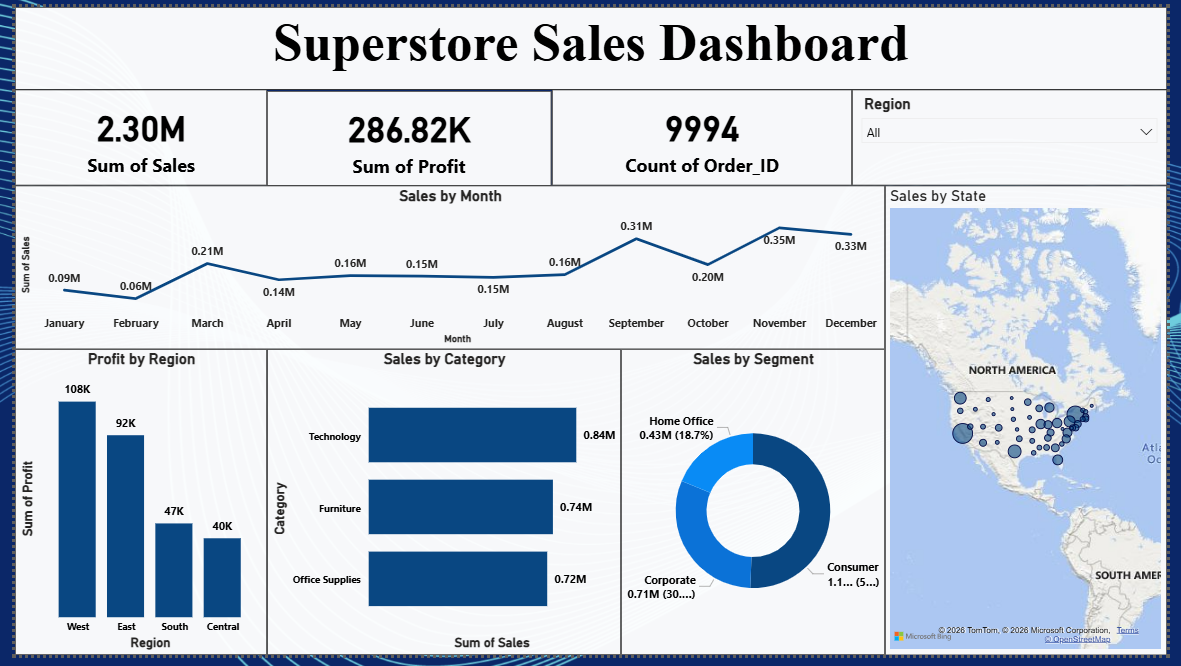

The dashboard page shown, as its layout file describes it:
{"tool":"powerbi","page":{"name":"Page 1","canvas":[1280,720],"ordinal":0},"visuals":[{"type":"shape","box":[8,72,290,112],"z":0},{"type":"card","fields":{"Values":["Sum(Query1.Sales)"]},"box":[8,72,290,112],"z":1000},{"type":"shape","box":[643,72,285,112],"z":2000},{"type":"card","fields":{"Values":["CountNonNull(Query1.Order_ID)"]},"box":[642,72,285,112],"z":3000},{"type":"shape","box":[329,72,285,112],"z":4000},{"type":"card","fields":{"Values":["Sum(Query1.Profit)"]},"box":[330,72,285,112],"z":5000},{"type":"shape","box":[326,400,290,312],"z":5500},{"type":"clusteredBarChart","title":"Category-wise Sales Performance","fields":{"Category":["Query1.Category"],"Y":["Sum(Query1.Sales)"]},"box":[325,400,290,312],"z":6000},{"type":"shape","box":[8,396,290,312],"z":7000},{"type":"clusteredColumnChart","title":"Regional Profit Analysis","fields":{"Category":["Query1.Region"],"Y":["Sum(Query1.Profit)"]},"box":[8,398,290,313],"z":8000},{"type":"shape","box":[8,200,920,180],"z":9000},{"type":"lineChart","title":"Monthly Sales Trend","fields":{"Y":["Sum(Query1.Sales)"],"Category":["Query1.Order_Date.Variation.Date Hierarchy.Year","Query1.Order_Date.Variation.Date Hierarchy.Quarter","Query1.Order_Date.Variation.Date Hierarchy.Month","Query1.Order_Date.Variation.Date Hierarchy.Day"]},"box":[8,200,920,180],"z":10000},{"type":"shape","box":[961,72,307,112],"z":11000},{"type":"slicer","fields":{"Values":["Query1.Region"]},"box":[960,72,304,112],"z":12000},{"type":"shape","box":[10,8,1260,50],"z":13000},{"type":"textbox","box":[8,8,1260,50],"z":14000},{"type":"shape","box":[640,400,290,312],"z":14500},{"type":"donutChart","title":"Sales Contribution by Customer Segment","fields":{"Y":["Sum(Query1.Sales)"],"Category":["Query1.Segment"]},"box":[639,400,290,312],"z":15000},{"type":"shape","box":[960,200,310,512],"z":15500},{"type":"map","title":"Sales Distribution by State","fields":{"Category":["Query1.State"],"Size":["Sum(Query1.Sales)"]},"box":[960,200,304,512],"z":16000}]}

Visuals, with their boxes in screenshot pixels (x1, y1, x2, y2), scaled from the page's 1280x720 canvas onto the 1181x666 screenshot:
shape: [x1=7, y1=67, x2=275, y2=170]
card - Sum(Query1.Sales): [x1=7, y1=67, x2=275, y2=170]
shape: [x1=593, y1=67, x2=856, y2=170]
card - CountNonNull(Query1.Order_ID): [x1=592, y1=67, x2=855, y2=170]
shape: [x1=304, y1=67, x2=567, y2=170]
card - Sum(Query1.Profit): [x1=304, y1=67, x2=567, y2=170]
shape: [x1=301, y1=370, x2=568, y2=659]
"Category-wise Sales Performance" clusteredBarChart: [x1=300, y1=370, x2=567, y2=659]
shape: [x1=7, y1=366, x2=275, y2=655]
"Regional Profit Analysis" clusteredColumnChart: [x1=7, y1=368, x2=275, y2=658]
shape: [x1=7, y1=185, x2=856, y2=352]
"Monthly Sales Trend" lineChart: [x1=7, y1=185, x2=856, y2=352]
shape: [x1=887, y1=67, x2=1170, y2=170]
slicer - Query1.Region: [x1=886, y1=67, x2=1166, y2=170]
shape: [x1=9, y1=7, x2=1172, y2=54]
textbox: [x1=7, y1=7, x2=1170, y2=54]
shape: [x1=590, y1=370, x2=858, y2=659]
"Sales Contribution by Customer Segment" donutChart: [x1=590, y1=370, x2=857, y2=659]
shape: [x1=886, y1=185, x2=1172, y2=659]
"Sales Distribution by State" map: [x1=886, y1=185, x2=1166, y2=659]
